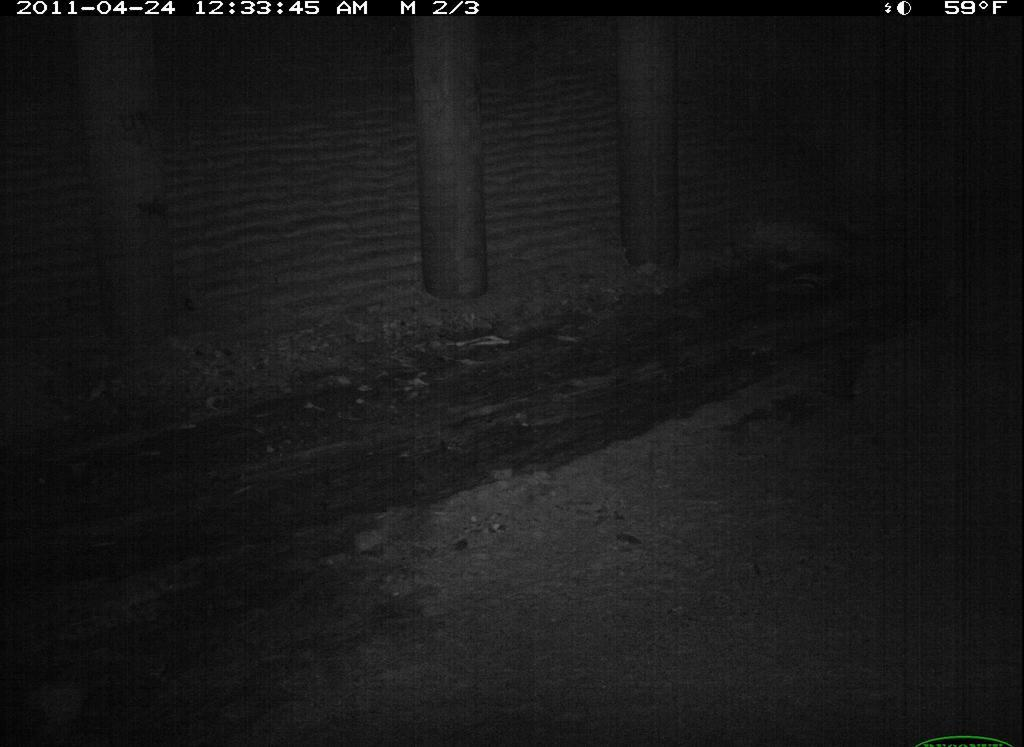opossum: (7, 5, 1024, 747)
